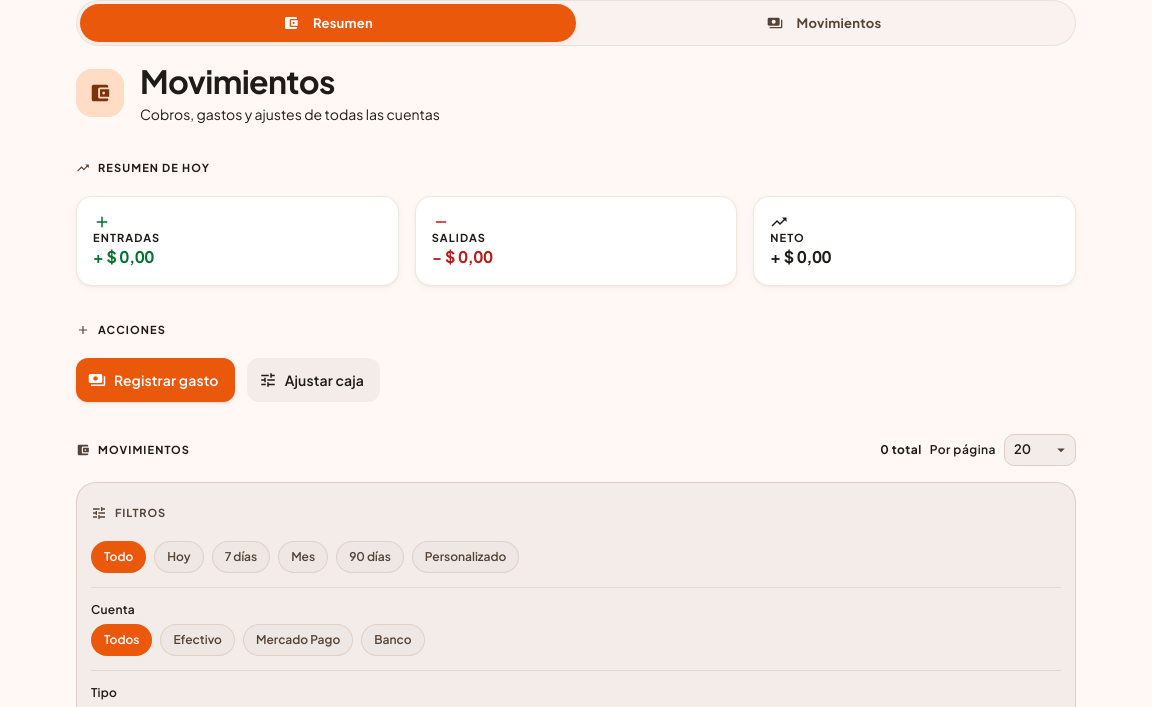
Test: CajaPage › only shows "Limpiar" when a filter is active and clears every filter on click
Expected: the button "Limpiar" is not shown
Click the button with aria-label "Cuenta: Efectivo".
click(198, 640)  # box left=160, top=624, right=235, bottom=656
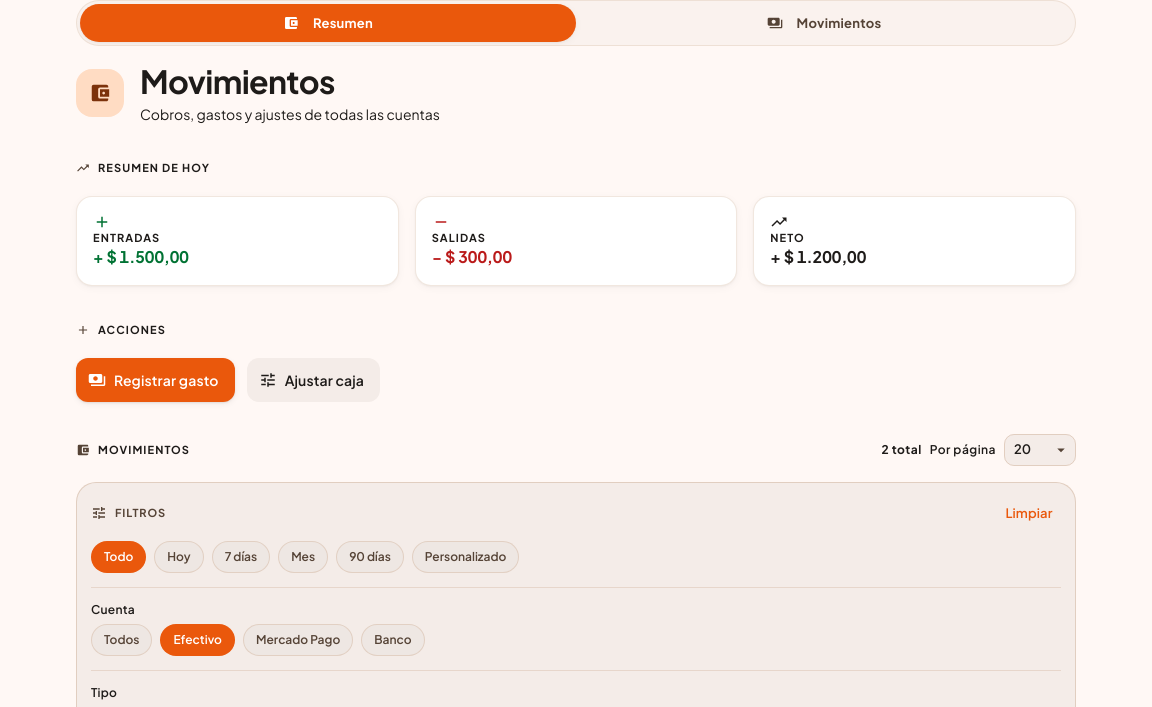
Click the button "Limpiar".
click(1029, 513)  # box left=997, top=497, right=1061, bottom=529
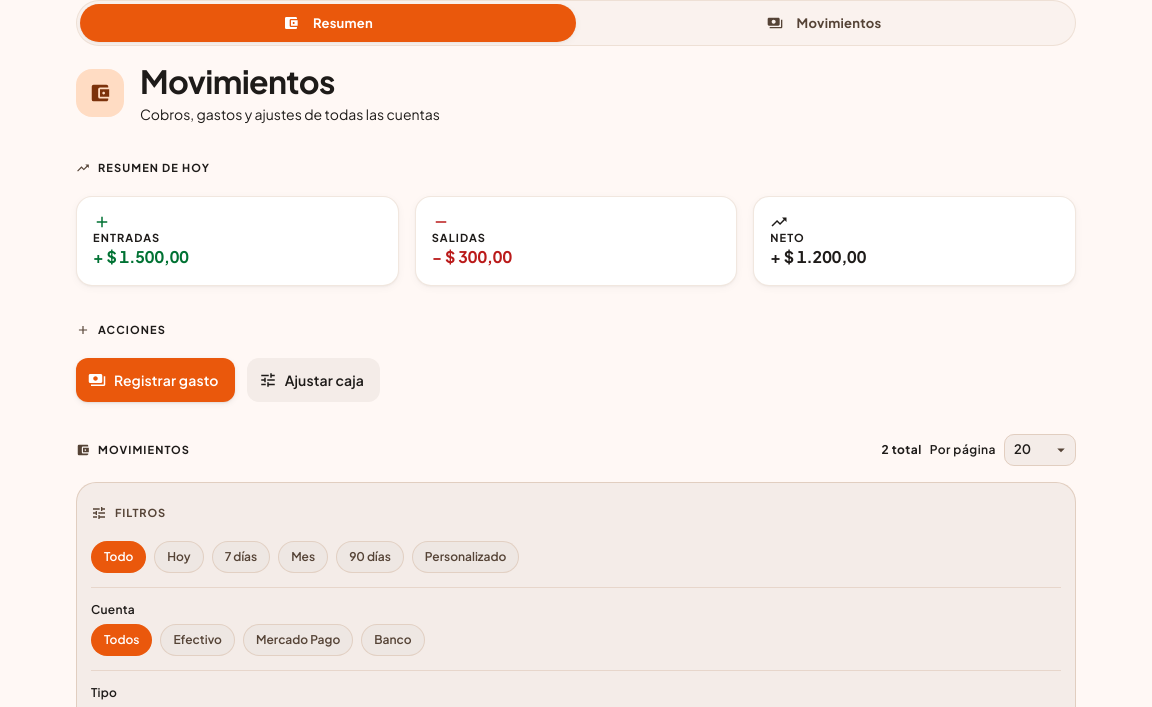
Now the button "Limpiar" is gone
